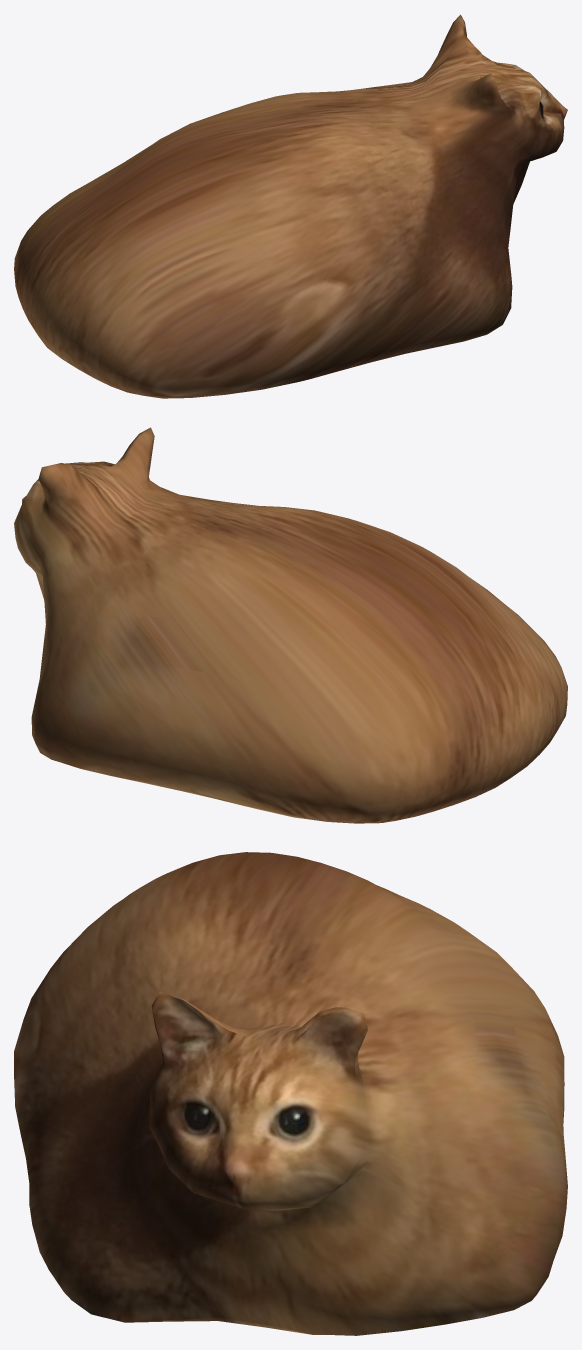
Rendered from the_chonker_gwa_gwa_cat.glb.
3 renders of one model, top to bottom at view 1: azimuth 30°, elevation 25°; view 2: azimuth 150°, elevation 25°; view 3: azimuth 270°, elevation 25°, orthographic. The views are drawn at different scales.
Visible parts, largest first — view 1: Cube; view 2: Cube; view 3: Cube.
Boxes of the visible parts, bbox=[...] form: Cube: bbox=[14, 14, 567, 398]; Cube: bbox=[14, 427, 567, 823]; Cube: bbox=[14, 852, 567, 1335].
Size of the model in its own units: 0.8636 by 0.3977 by 0.5529.
Materials: 2 (2 with a texture image).
